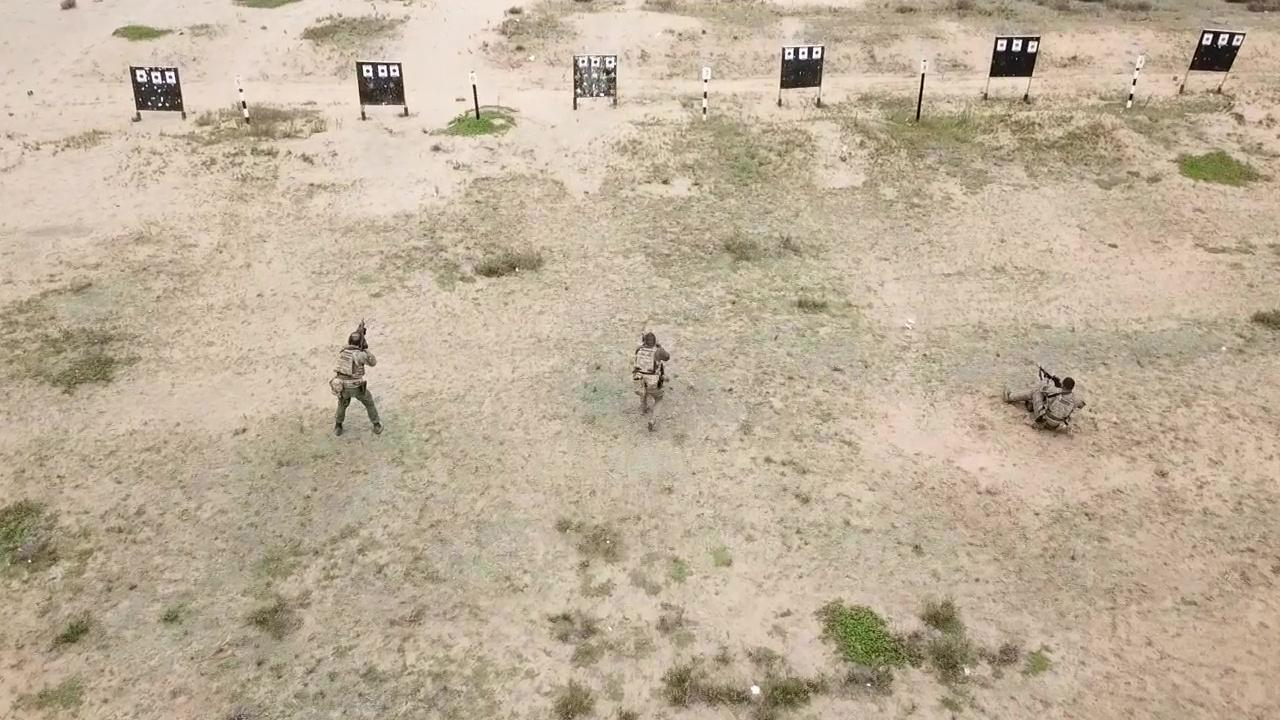Soldier: (327, 315, 386, 437), (1000, 361, 1088, 437), (631, 329, 673, 435)
